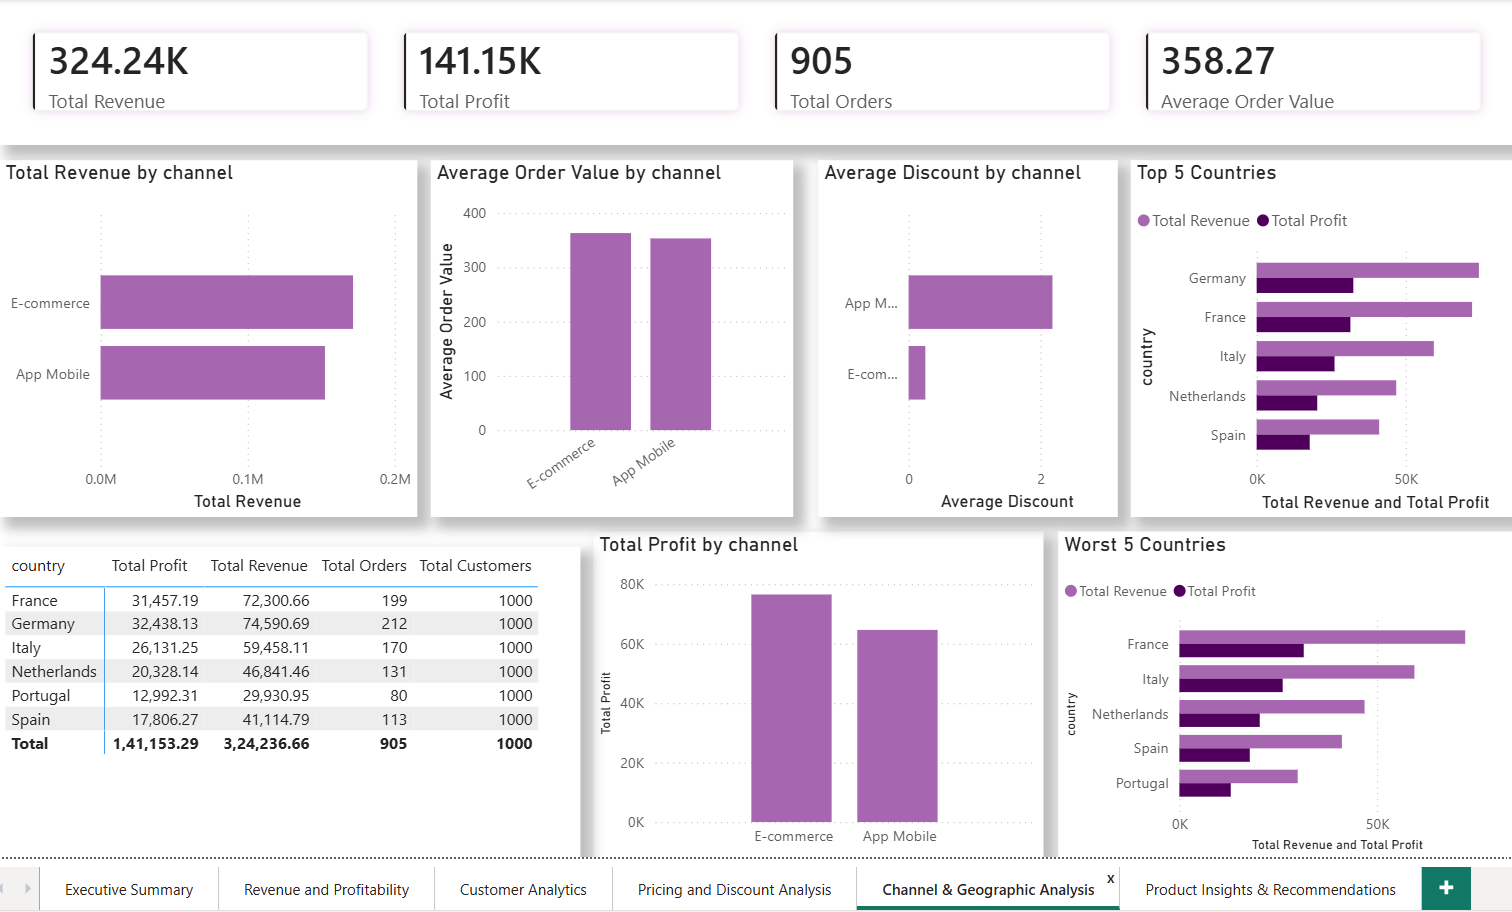

This screenshot's page, from the dashboard's own definition file:
{"tool":"powerbi","page":{"name":"Channel & Geographic Analysis","canvas":[1280,720],"ordinal":4},"visuals":[{"type":"cardVisual","fields":{"Data":["salesitems.Total Revenue","salesitems.Total Profit","salesitems.Total Orders","salesitems.Average Order Value"]},"box":[10,0,1270,122.6],"z":0},{"type":"clusteredBarChart","fields":{"Category":["channels.channel"],"Y":["salesitems.Total Revenue"]},"box":[10,135.4,350.6,299.3],"z":1000},{"type":"clusteredColumnChart","fields":{"Category":["channels.channel"],"Y":["salesitems.Total Profit"]},"box":[508.9,446.1,377.7,273.7],"z":2000},{"type":"clusteredBarChart","fields":{"Category":["channels.channel"],"Y":["salesitems.Average Discount"]},"box":[697,135.4,250.9,299.3],"z":3000},{"type":"clusteredColumnChart","fields":{"Category":["channels.channel"],"Y":["salesitems.Average Order Value"]},"box":[372,135.4,303.6,299.3],"z":4000},{"type":"pivotTable","fields":{"Rows":["sales.country"],"Values":["salesitems.Total Profit","salesitems.Total Revenue","salesitems.Total Orders","salesitems.Total Customers"]},"box":[10,459,487.5,260.8],"z":5000},{"type":"clusteredBarChart","title":"Top 5 Countries","fields":{"Category":["sales.country"],"Y":["salesitems.Total Revenue","salesitems.Total Profit"]},"box":[959.3,135.4,320.7,299.3],"z":6000},{"type":"clusteredBarChart","title":"Worst 5 Countries","fields":{"Category":["sales.country"],"Y":["salesitems.Total Revenue","salesitems.Total Profit"]},"box":[898,446.1,382,273.7],"z":7000}]}

Visuals, with their boxes on the page's 1280x720 design canvas (x1, y1, x2, y2). These are canvas units, not pixel positions in the 1512x912 screenshot, which may show the page scaled, cropped or inside an application window:
cardVisual - salesitems.Total Revenue x salesitems.Total Profit: (10,0,1280,123)
clusteredBarChart - channels.channel x salesitems.Total Revenue: (10,135,361,435)
clusteredColumnChart - channels.channel x salesitems.Total Profit: (509,446,887,720)
clusteredBarChart - channels.channel x salesitems.Average Discount: (697,135,948,435)
clusteredColumnChart - channels.channel x salesitems.Average Order Value: (372,135,676,435)
pivotTable - sales.country x salesitems.Total Profit: (10,459,498,720)
"Top 5 Countries" clusteredBarChart: (959,135,1280,435)
"Worst 5 Countries" clusteredBarChart: (898,446,1280,720)
